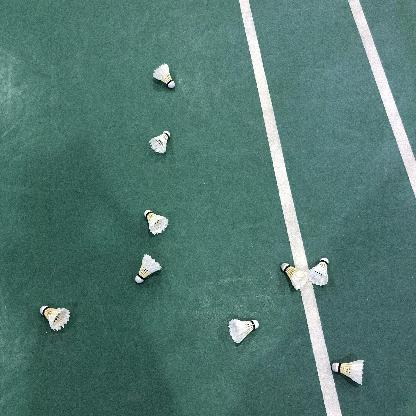ball_single: (332, 360, 364, 385), (281, 263, 310, 290), (135, 254, 162, 283), (40, 305, 70, 331), (228, 319, 259, 343), (144, 210, 169, 235), (307, 258, 329, 286), (153, 64, 175, 88), (149, 131, 170, 153)
